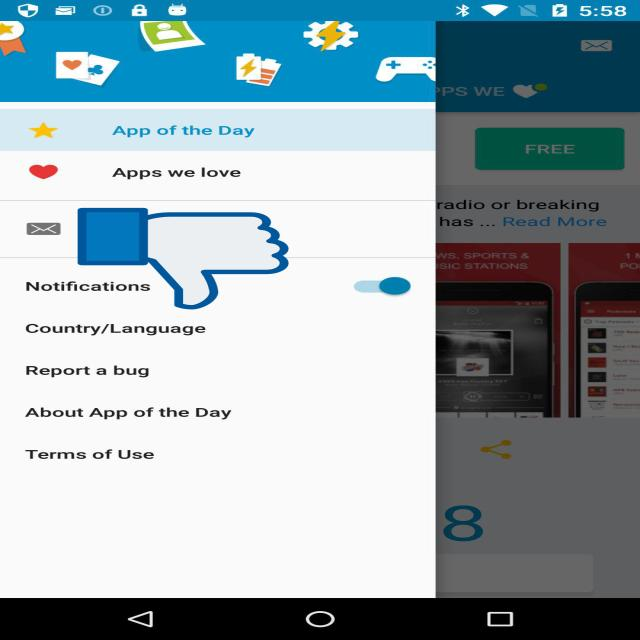obstruction: (78, 206, 288, 312)
